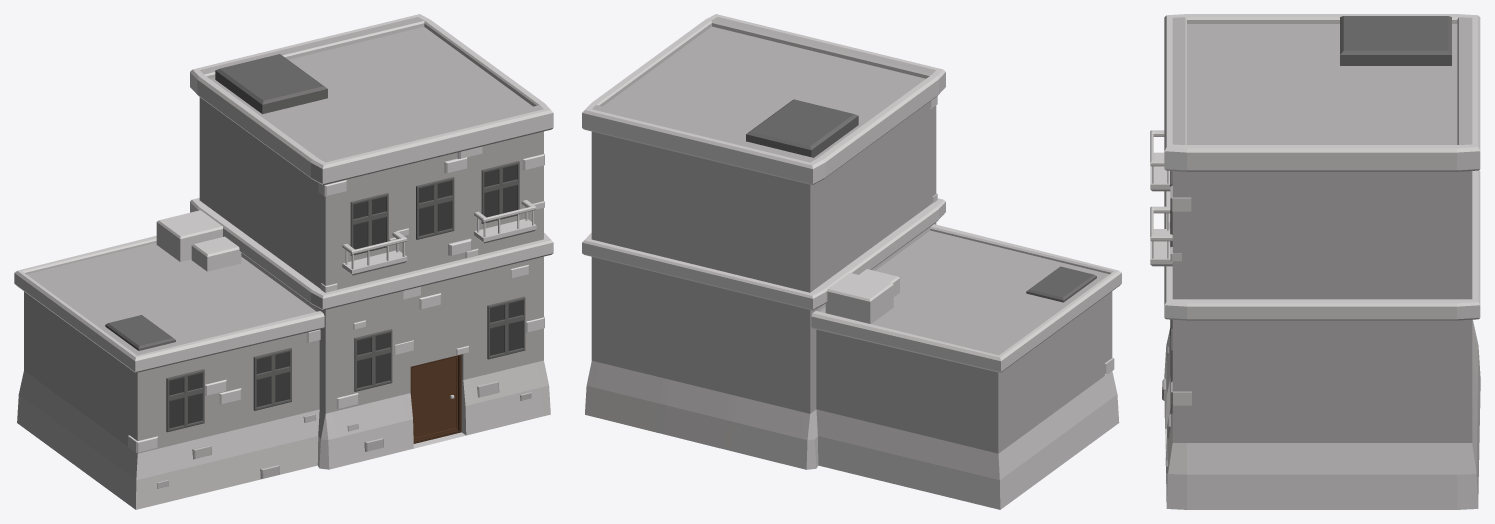
The model's file is City_Building3.fbx.
The picture shows the model from 3 angles, left to right: view 1: azimuth 30°, elevation 25°; view 2: azimuth 150°, elevation 25°; view 3: azimuth 270°, elevation 25°; orthographic projection. The views are drawn at different scales.
Visible parts, largest first — view 1: House_3; view 2: House_3; view 3: House_3.
Boxes of the visible parts, box(x1,y1,x2,y2) form: House_3: box(14, 14, 553, 509); House_3: box(582, 14, 1121, 509); House_3: box(1150, 14, 1480, 509).
Bounding box in the file's own units: 11.41 × 8.18 × 6.62.
